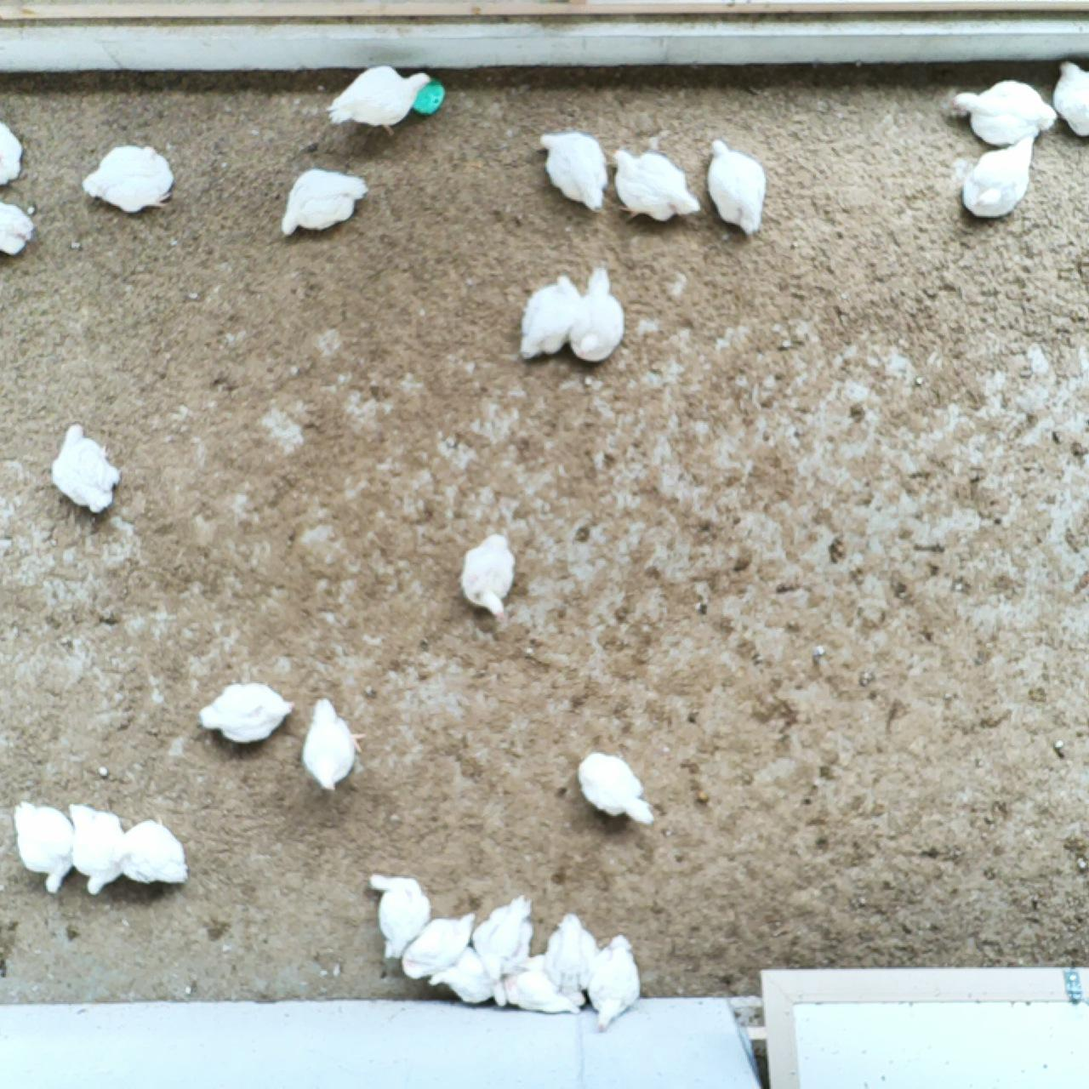chicken: (946, 76, 1059, 150), (327, 61, 433, 138), (78, 142, 178, 218), (610, 145, 700, 228), (48, 420, 125, 516), (299, 693, 368, 797), (277, 164, 369, 242), (7, 793, 75, 897), (703, 136, 772, 237), (197, 678, 296, 747), (960, 134, 1037, 221), (63, 800, 130, 899), (572, 750, 658, 826), (515, 272, 585, 362), (538, 129, 611, 215), (567, 262, 628, 364), (587, 931, 646, 1036), (366, 871, 434, 962), (471, 891, 538, 981), (453, 530, 518, 622), (118, 813, 191, 891), (545, 912, 603, 1008), (402, 909, 478, 979), (498, 968, 583, 1020), (428, 945, 495, 1006), (524, 952, 586, 1005), (1052, 56, 1089, 138), (0, 198, 37, 258), (0, 118, 27, 189)
